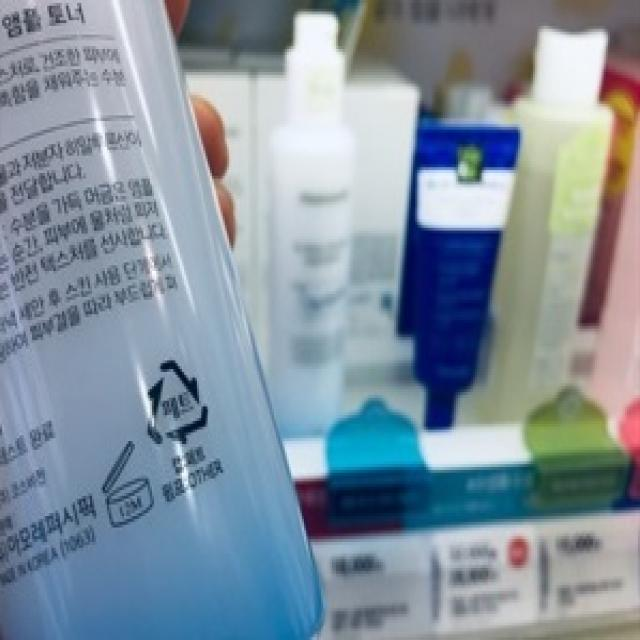PET: (143, 356, 214, 450)
